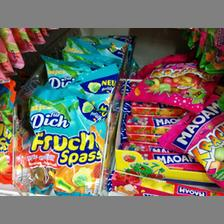Suessigkeit: (22, 82, 108, 194), (124, 51, 212, 111)
